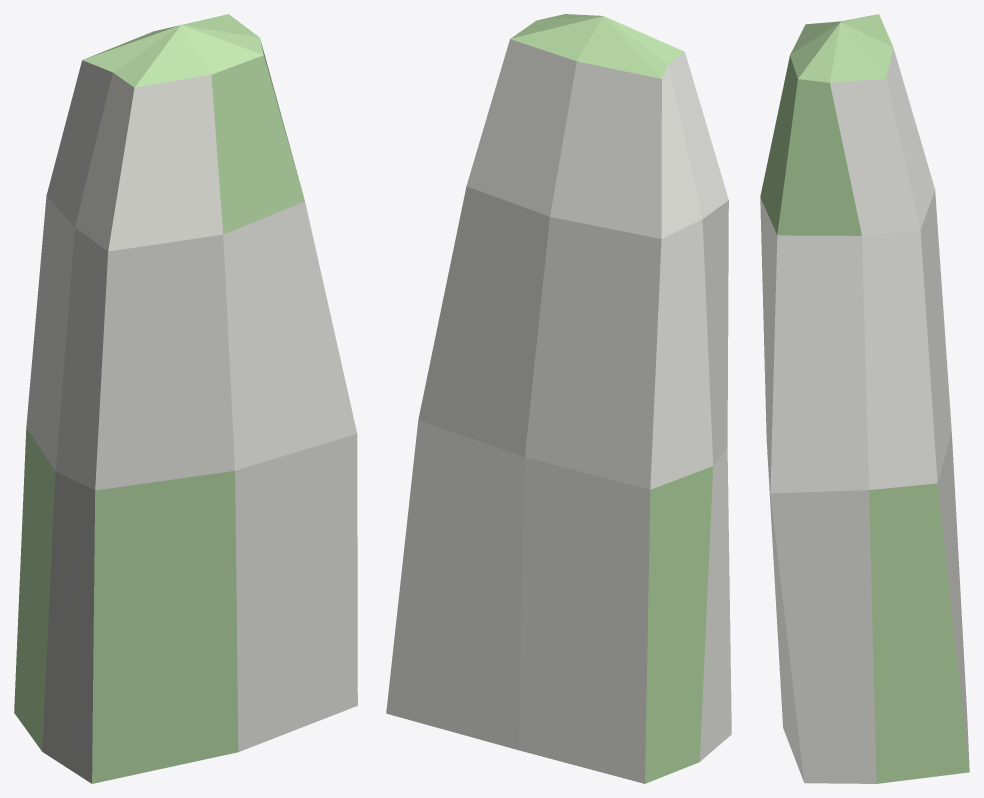
Rendered from standing_stone.gltf.
The picture shows the model from 3 angles, left to right: view 1: azimuth 30°, elevation 25°; view 2: azimuth 150°, elevation 25°; view 3: azimuth 270°, elevation 25°; orthographic projection. The views are drawn at different scales.
Parts seen in each view (by area): view 1: standing_stone_Stone_Rock, standing_stone_Stone_Moss; view 2: standing_stone_Stone_Rock, standing_stone_Stone_Moss; view 3: standing_stone_Stone_Rock, standing_stone_Stone_Moss.
Boxes of the visible parts, bbox=[...] form: standing_stone_Stone_Rock: bbox=[26, 60, 357, 783]; standing_stone_Stone_Moss: bbox=[14, 14, 304, 783]; standing_stone_Stone_Rock: bbox=[386, 39, 731, 783]; standing_stone_Stone_Moss: bbox=[510, 14, 713, 783]; standing_stone_Stone_Rock: bbox=[760, 48, 969, 783]; standing_stone_Stone_Moss: bbox=[760, 14, 969, 783].
Bounding box in the file's own units: 1.24 × 2.96 × 0.8047.
